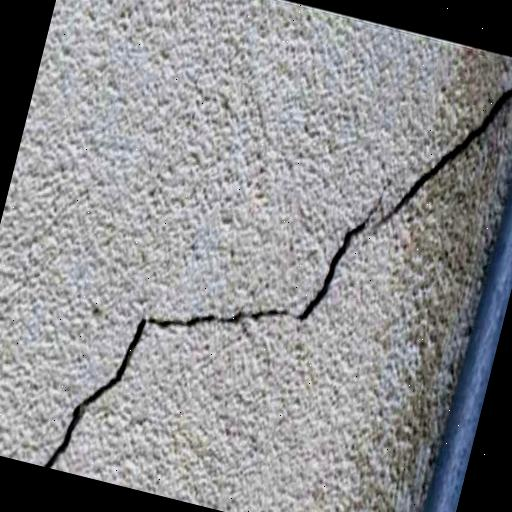spalling: (42, 81, 512, 470)
